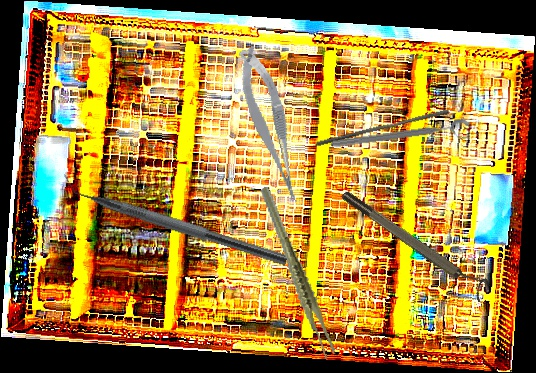Chopper: (57, 169, 293, 267)
Fixation Ring: (338, 181, 495, 304), (330, 117, 472, 159)
Micro Scissor: (234, 42, 304, 209)
Pusher: (314, 104, 450, 152)
Tissue Forceps: (258, 178, 338, 367)
